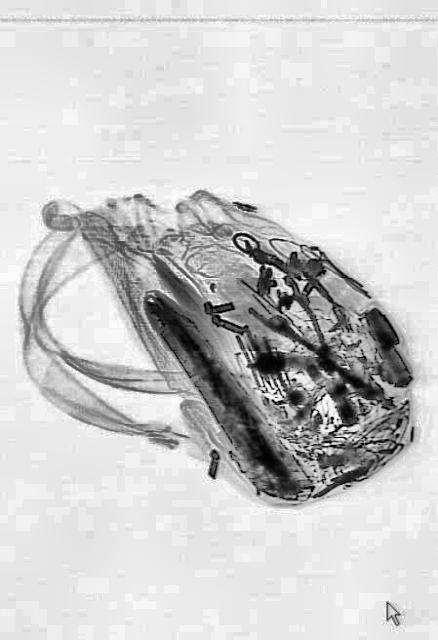Pliers: (246, 258, 365, 406)
